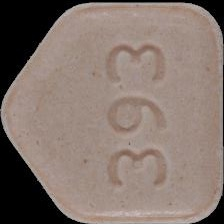61786-444: (0, 0, 224, 224)
